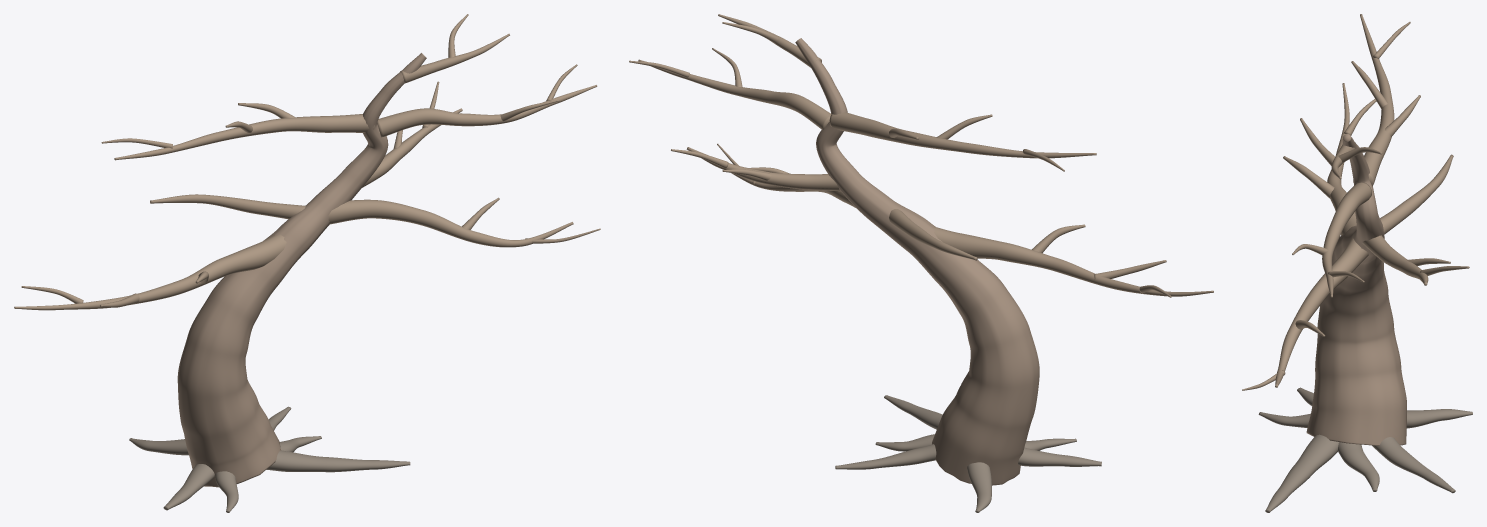
File: pine005-trunk.glb
The picture shows the model from 3 angles, left to right: view 1: azimuth 30°, elevation 25°; view 2: azimuth 150°, elevation 25°; view 3: azimuth 270°, elevation 25°; orthographic projection. The views are drawn at different scales.
Parts seen in each view (by area): view 1: MAIN S-TRUNK — one continuously lofted mesh, BRANCH A lower left outstretched, BRANCH D lower right counterbalance, BRANCH B high left horizontal, BRANCH C upper right wide, ROOT front sweep, BRANCH G rear left counterbalance, BRANCH E middle right tier, BRANCH F upper canopy apex support, ROOT left grip, ROOT back grip; view 2: MAIN S-TRUNK — one continuously lofted mesh, BRANCH A lower left outstretched, BRANCH B high left horizontal, BRANCH C upper right wide, BRANCH E middle right tier, ROOT right rear, BRANCH G rear left counterbalance, ROOT left grip, ROOT back grip, ROOT front sweep; view 3: MAIN S-TRUNK — one continuously lofted mesh, BRANCH D lower right counterbalance, ROOT front sweep, BRANCH B high left horizontal, BRANCH C upper right wide, ROOT right rear, BRANCH G rear left counterbalance, BRANCH E middle right tier, ROOT right close, BRANCH A lower left outstretched, ROOT back grip, TWIG left-3 (+6 smaller).
Part boxes in pixels (bbox=[...]): MAIN S-TRUNK — one continuously lofted mesh: bbox=[177, 53, 426, 487]; BRANCH A lower left outstretched: bbox=[14, 234, 286, 310]; BRANCH D lower right counterbalance: bbox=[328, 199, 573, 247]; BRANCH B high left horizontal: bbox=[114, 114, 374, 160]; BRANCH C upper right wide: bbox=[377, 85, 597, 137]; ROOT front sweep: bbox=[266, 450, 410, 472]; BRANCH G rear left counterbalance: bbox=[150, 194, 305, 219]; BRANCH E middle right tier: bbox=[362, 108, 462, 187]; BRANCH F upper canopy apex support: bbox=[400, 33, 509, 83]; ROOT left grip: bbox=[163, 464, 214, 510]; ROOT back grip: bbox=[129, 438, 188, 455]; MAIN S-TRUNK — one continuously lofted mesh: bbox=[795, 38, 1039, 485]; BRANCH A lower left outstretched: bbox=[933, 226, 1213, 296]; BRANCH B high left horizontal: bbox=[829, 112, 1096, 158]; BRANCH C upper right wide: bbox=[638, 59, 831, 129]; BRANCH E middle right tier: bbox=[686, 147, 840, 191]; ROOT right rear: bbox=[835, 444, 936, 469]; BRANCH G rear left counterbalance: bbox=[889, 209, 977, 260]; ROOT left grip: bbox=[1018, 447, 1101, 466]; ROOT back grip: bbox=[967, 462, 991, 512]; ROOT front sweep: bbox=[884, 395, 942, 429]; MAIN S-TRUNK — one continuously lofted mesh: bbox=[1306, 134, 1406, 445]; BRANCH D lower right counterbalance: bbox=[1275, 237, 1368, 387]; ROOT front sweep: bbox=[1265, 434, 1338, 512]; BRANCH B high left horizontal: bbox=[1353, 14, 1394, 186]; BRANCH C upper right wide: bbox=[1322, 182, 1371, 297]; ROOT right rear: bbox=[1372, 437, 1455, 493]; BRANCH G rear left counterbalance: bbox=[1380, 154, 1453, 234]; BRANCH E middle right tier: bbox=[1362, 235, 1428, 285]; ROOT right close: bbox=[1338, 442, 1379, 491]; BRANCH A lower left outstretched: bbox=[1327, 83, 1356, 235]; ROOT back grip: bbox=[1406, 409, 1472, 428]; TWIG left-3: bbox=[1283, 156, 1334, 198].
Bounding box in the file's own units: 12.41 × 8.1 × 3.96.
